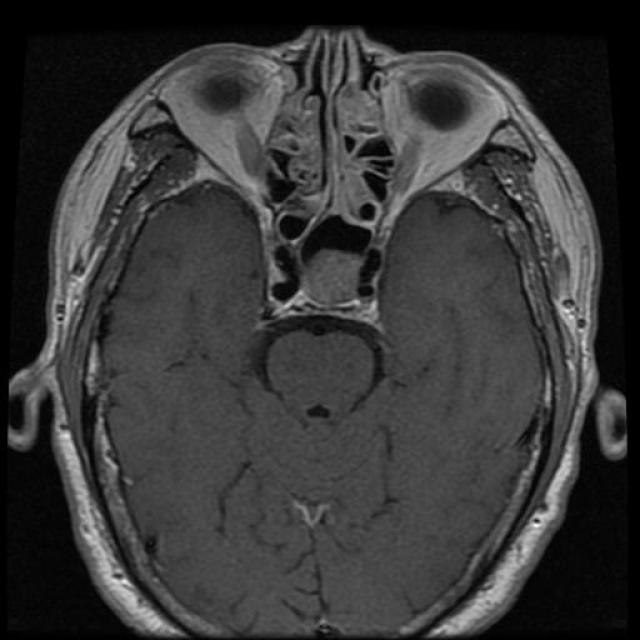pituitary: (253, 184, 395, 333)
